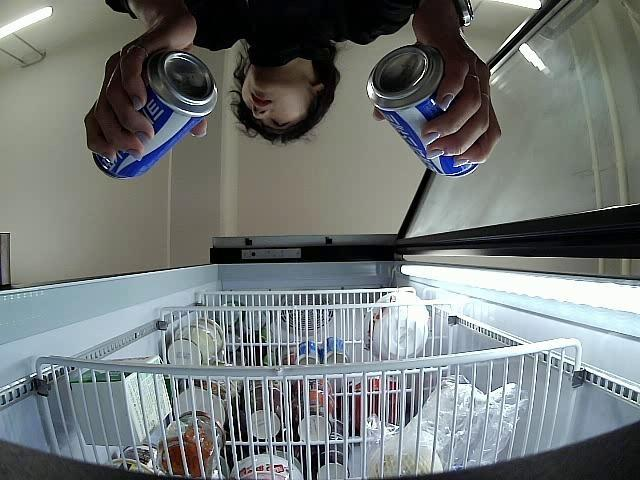13_pocariSweat: (90, 51, 220, 180), (365, 43, 482, 178)
